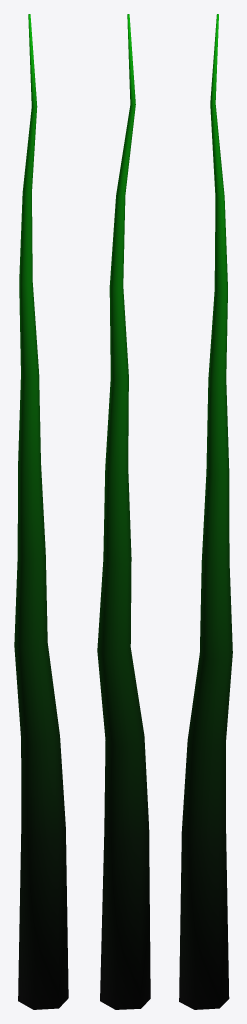
The model's file is medium_tree_trunk.obj.
3 views of the same model, side by side, from view 1: azimuth 90°, elevation 25°; view 2: azimuth 150°, elevation 25°; view 3: azimuth 270°, elevation 25° (orthographic).
Parts seen in each view (by area): view 1: MediumTreeTrunk; view 2: MediumTreeTrunk; view 3: MediumTreeTrunk.
Boxes of the visible parts, x1=… form: MediumTreeTrunk: x1=14, y1=14, x2=68, y2=1009; MediumTreeTrunk: x1=97, y1=14, x2=150, y2=1009; MediumTreeTrunk: x1=179, y1=14, x2=232, y2=1009.
Size of the model in its own units: 1.07 by 24.85 by 1.23.
